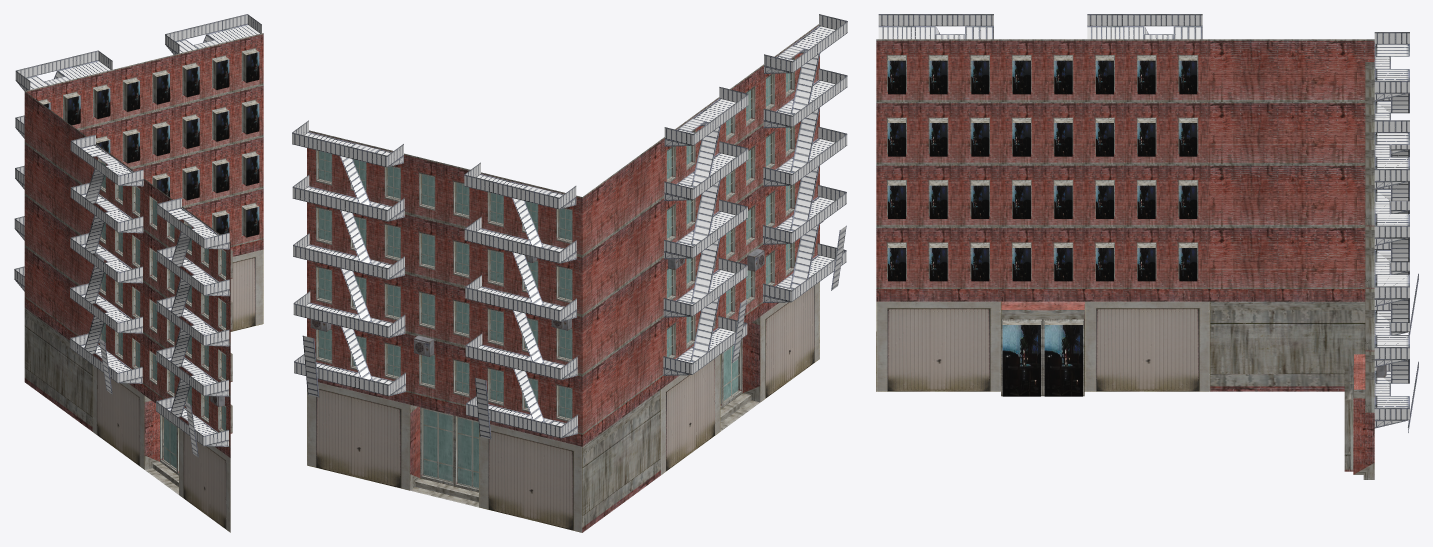
Rendered from Building_07.fbx.
3 renders of one model, left to right at view 1: azimuth 30°, elevation 25°; view 2: azimuth 150°, elevation 25°; view 3: azimuth 270°, elevation 25°, orthographic. The views are drawn at different scales.
Parts seen in each view (by area): view 1: Building_07; view 2: Building_07; view 3: Building_07.
Part boxes in pixels (left/top/right/bottom): Building_07: left=14, top=14, right=263, bottom=532; Building_07: left=292, top=14, right=847, bottom=532; Building_07: left=876, top=14, right=1418, bottom=479.
Size of the model in its own units: 1628 by 1724 by 2337.
